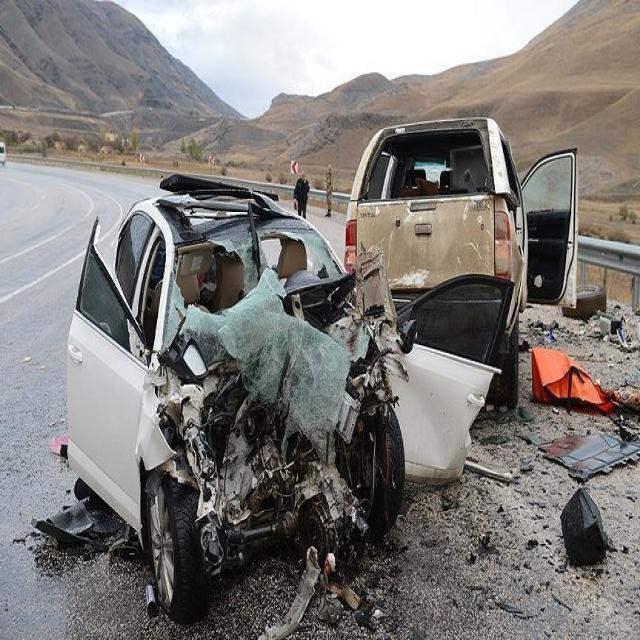Accident: (61, 118, 583, 622)
